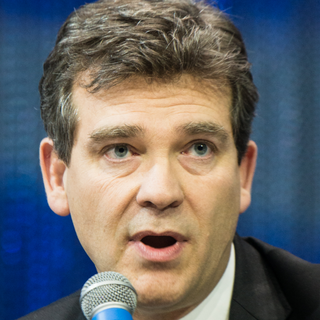eye: (176, 135, 222, 162), (97, 139, 145, 164)
